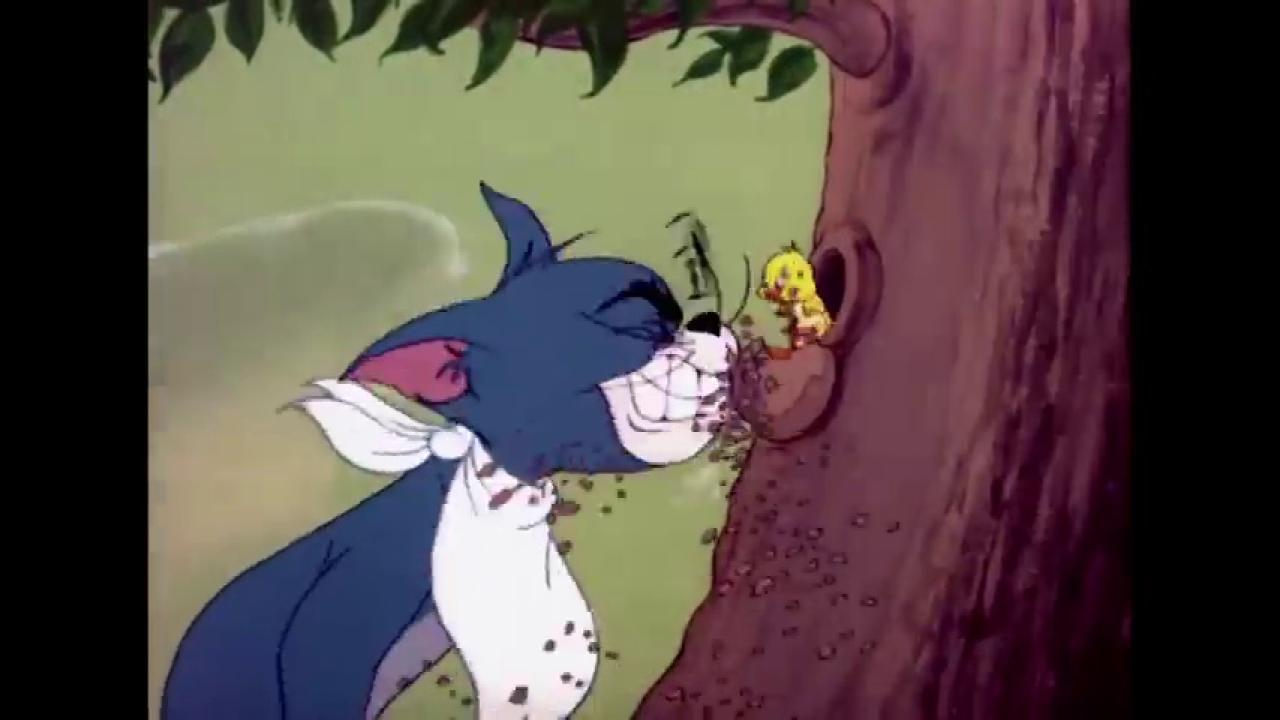Tom: (162, 178, 740, 720)
